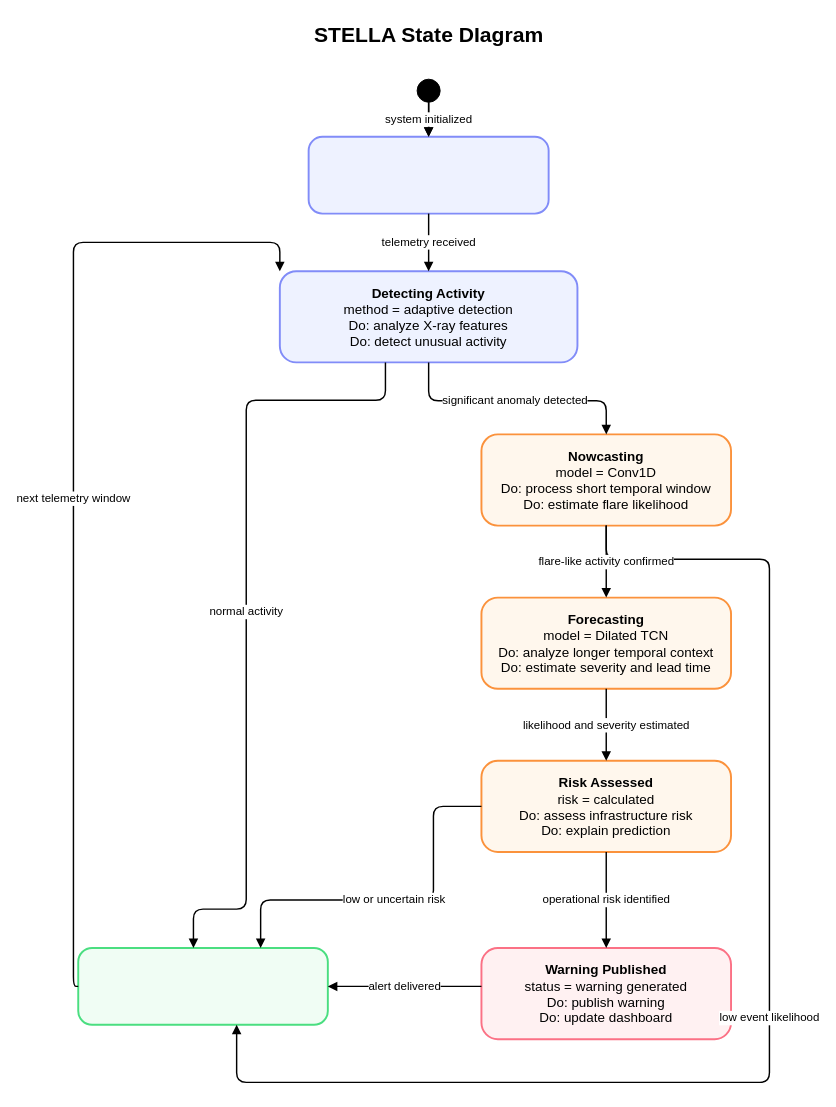
Image size: 836x1107. Some labels were removed from this diagram. Here are the shapes that lost their labels. From the top down, the centre of each, then its label:
pixel 428 174: Telemetry Ready status = ready Do: receive synchronized telemetry
pixel 202 986: Monitoring status = active Do: wait for next telemetry window
